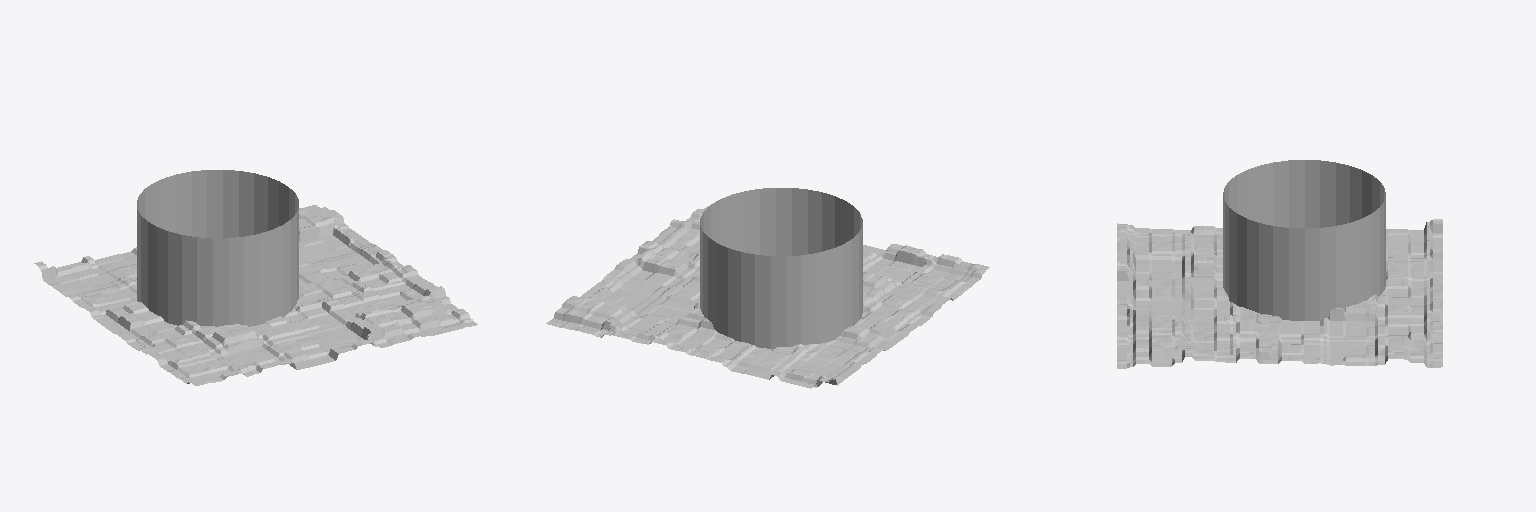
The model's file is terrain_big.obj.
3 views of the same model, side by side, from view 1: azimuth 30°, elevation 25°; view 2: azimuth 150°, elevation 25°; view 3: azimuth 270°, elevation 25° (orthographic).
Visible parts, largest first — view 1: Plane, Circle; view 2: Plane, Circle; view 3: Plane, Circle.
Part boxes in pixels (bbox=[...]): Plane: bbox=[34, 205, 477, 385]; Circle: bbox=[137, 170, 298, 326]; Plane: bbox=[546, 206, 989, 388]; Circle: bbox=[700, 188, 862, 348]; Plane: bbox=[1117, 219, 1442, 368]; Circle: bbox=[1223, 160, 1385, 320].
Bounding box in the file's own units: 150 × 50 × 150.